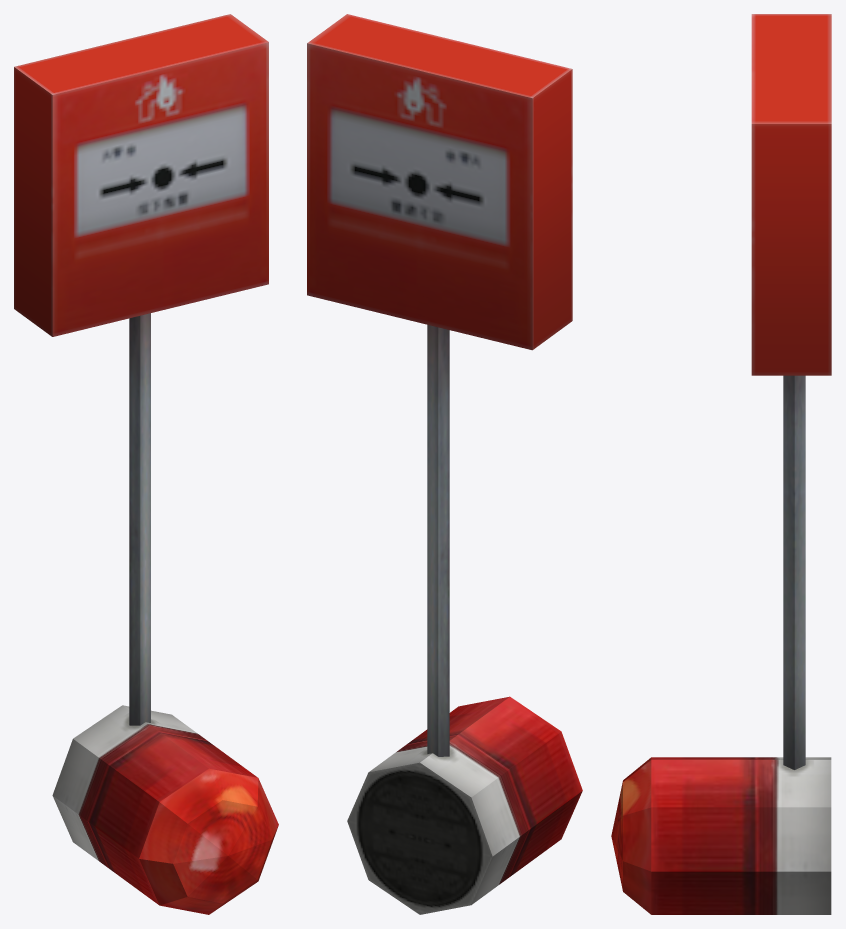
File: 报警器2.obj
3 renders of one model, left to right at view 1: azimuth 30°, elevation 25°; view 2: azimuth 150°, elevation 25°; view 3: azimuth 270°, elevation 25°, orthographic. The views are drawn at different scales.
Visible parts, largest first — view 1: ???2; view 2: ???2; view 3: ???2.
Boxes of the visible parts, <box> form: ???2: <box>14,14,278,914</box>; ???2: <box>307,14,582,914</box>; ???2: <box>611,14,831,914</box>.
Size of the model in its own units: 13 by 46.53 by 11.02.
